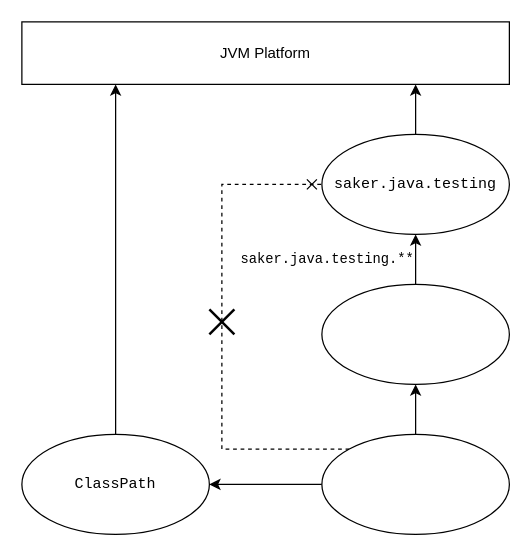
The diagram is 531 pixels wide and 556 high, and some of its shapes have lost their labels. The centre of each missing label's shape, as x and y in pixels:
TestClassPath: point (415, 483)
TestRunnerClassPath: point (415, 333)
